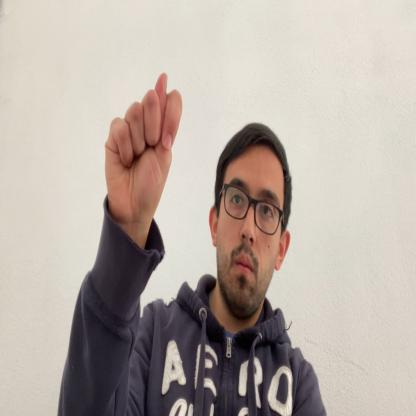T: (104, 71, 182, 232)
